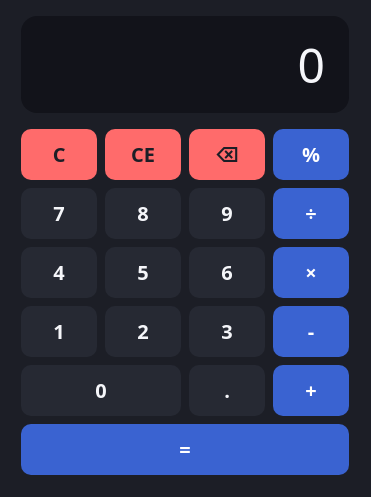
Test case: App — basic calculation (User Story 1) › computes 6 × 7 = 42
Click the button "6".
click(227, 272)  # box [189, 247, 265, 298]
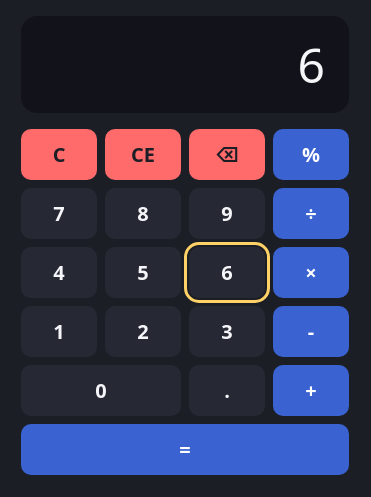
Click the button named "Multiply".
click(311, 272)  # box [273, 247, 349, 298]
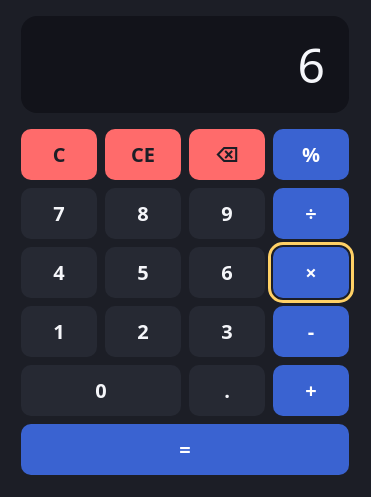
Click the button "7".
click(59, 214)  # box [21, 188, 97, 239]
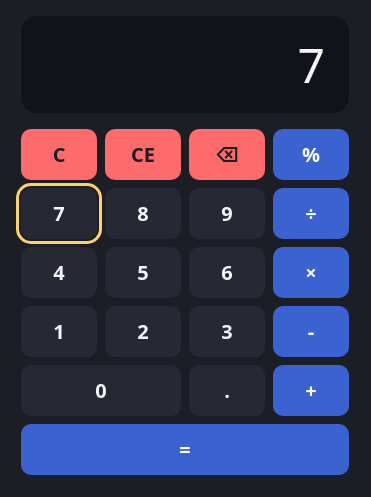
Click the button named "Equals".
click(185, 450)  # box [21, 424, 349, 475]
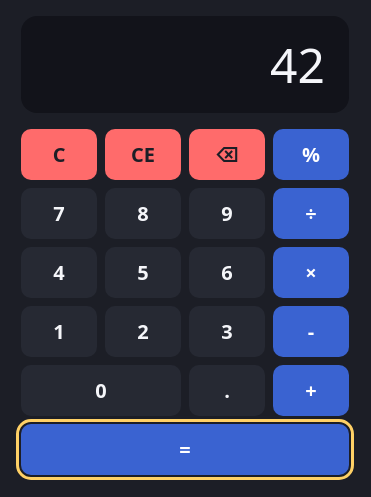
expect the message named "Calculator display" reads "42": met, box [270, 32, 325, 97]
